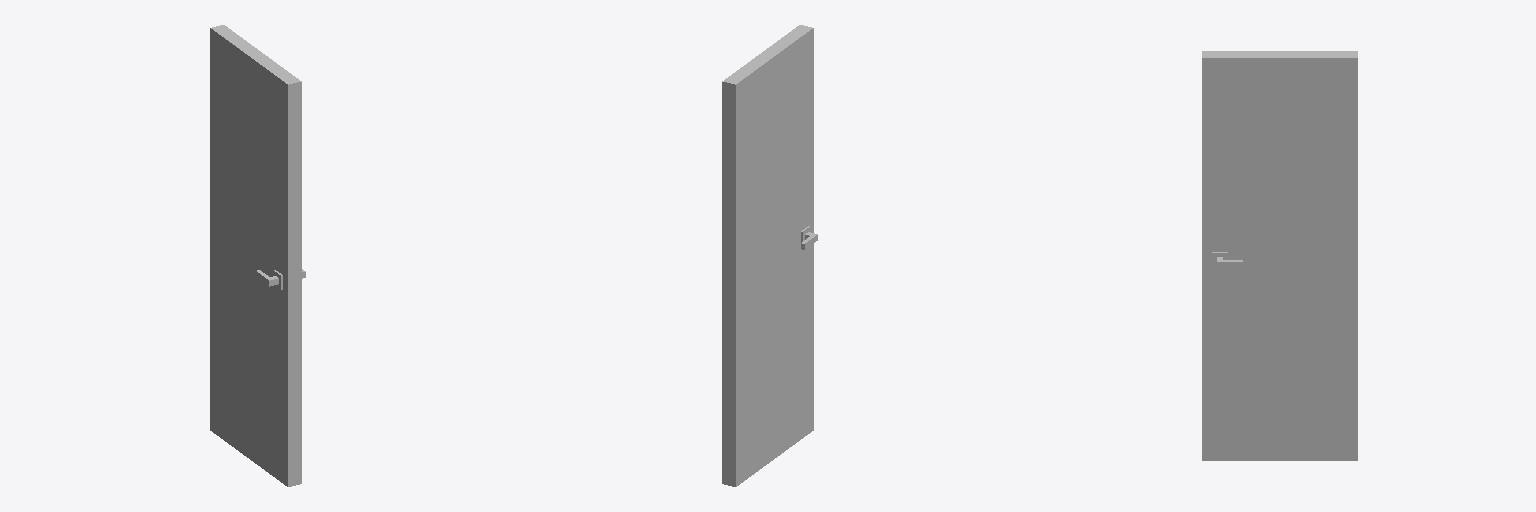
File: door701_.obj
The picture shows the model from 3 angles: view 1: azimuth 30°, elevation 25°; view 2: azimuth 150°, elevation 25°; view 3: azimuth 270°, elevation 25°; orthographic projection.
Parts seen in each view (by area): view 1: Cube_Cube; view 2: Cube_Cube; view 3: Cube_Cube.
Part boxes in pixels (bbox=[...]): Cube_Cube: bbox=[210, 25, 305, 486]; Cube_Cube: bbox=[722, 25, 817, 486]; Cube_Cube: bbox=[1202, 51, 1357, 460].
Size of the model in its own units: 0.19 by 2 by 0.7004.